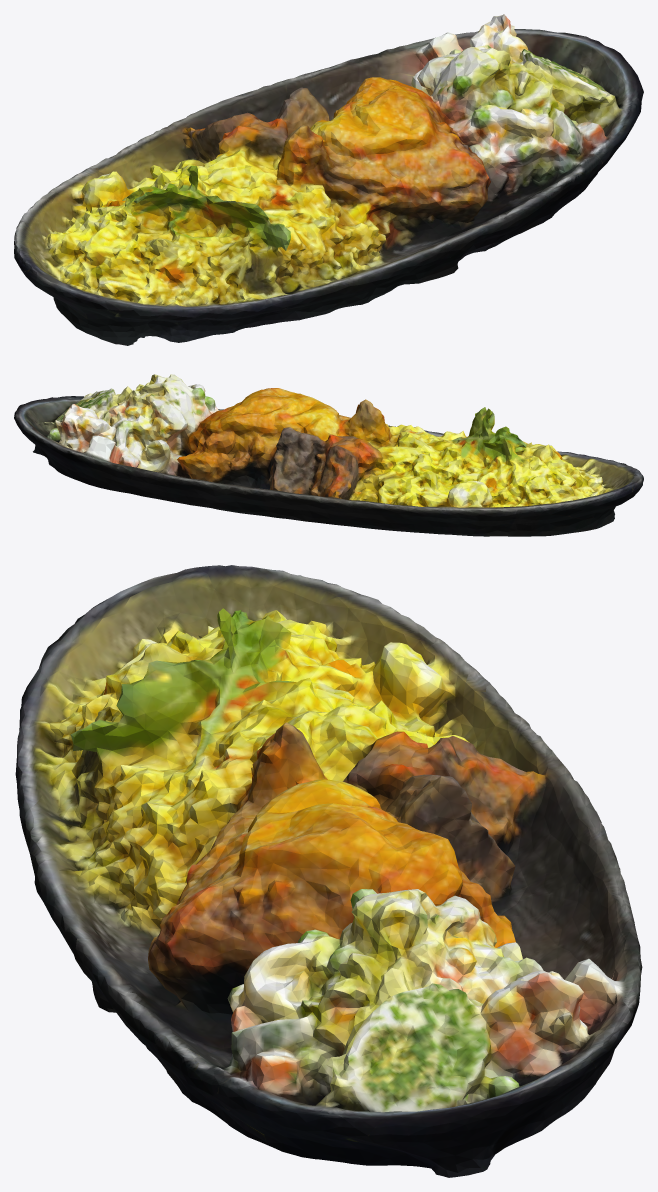
Rendered from Fried rice, chicken and coleslaw .glb.
3 renders of one model, top to bottom at view 1: azimuth 30°, elevation 25°; view 2: azimuth 150°, elevation 25°; view 3: azimuth 270°, elevation 25°, orthographic. The views are drawn at different scales.
Parts seen in each view (by area): view 1: Mesh_0.005; view 2: Mesh_0.005; view 3: Mesh_0.005.
Part boxes in pixels (left/top/right/bottom): Mesh_0.005: left=14, top=14, right=643, bottom=345; Mesh_0.005: left=14, top=374, right=643, bottom=536; Mesh_0.005: left=15, top=565, right=642, bottom=1177.
Bounding box in the file's own units: 0.8712 × 0.166 × 0.4286.
Materials: 1 (1 with a texture image).
